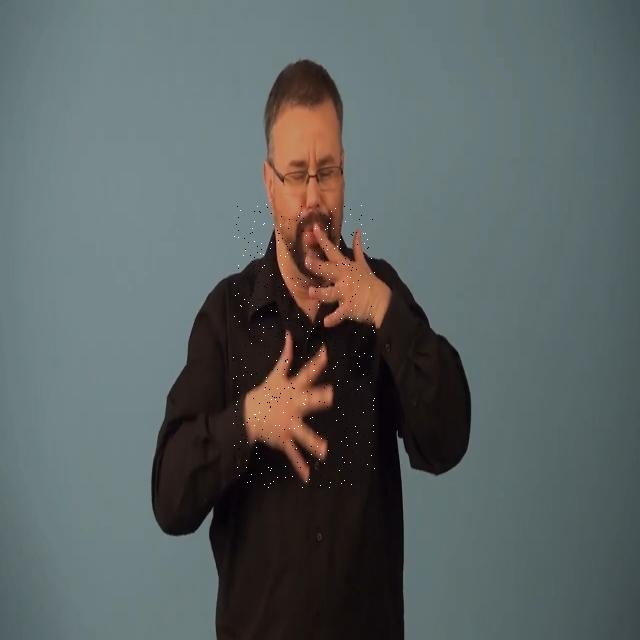juicy: (233, 204, 375, 490)
